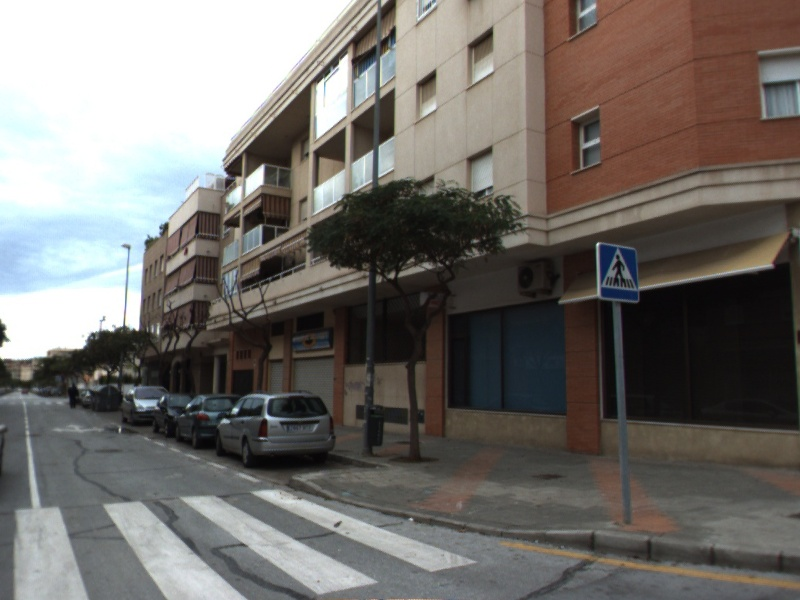STRAIGHT_LEFT_RIGHT: (50, 421, 107, 435)
